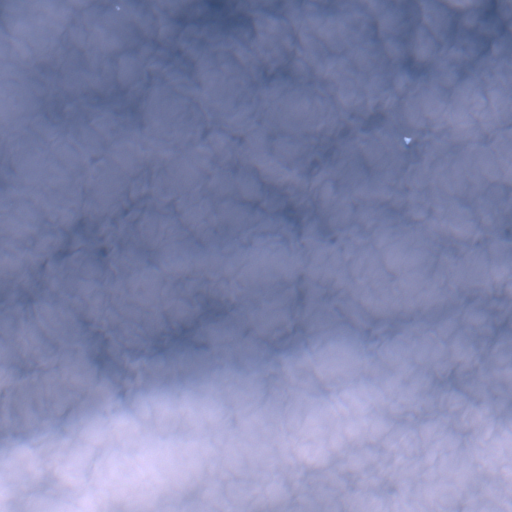Iceberg: (404, 137, 411, 144), (116, 6, 119, 9)
